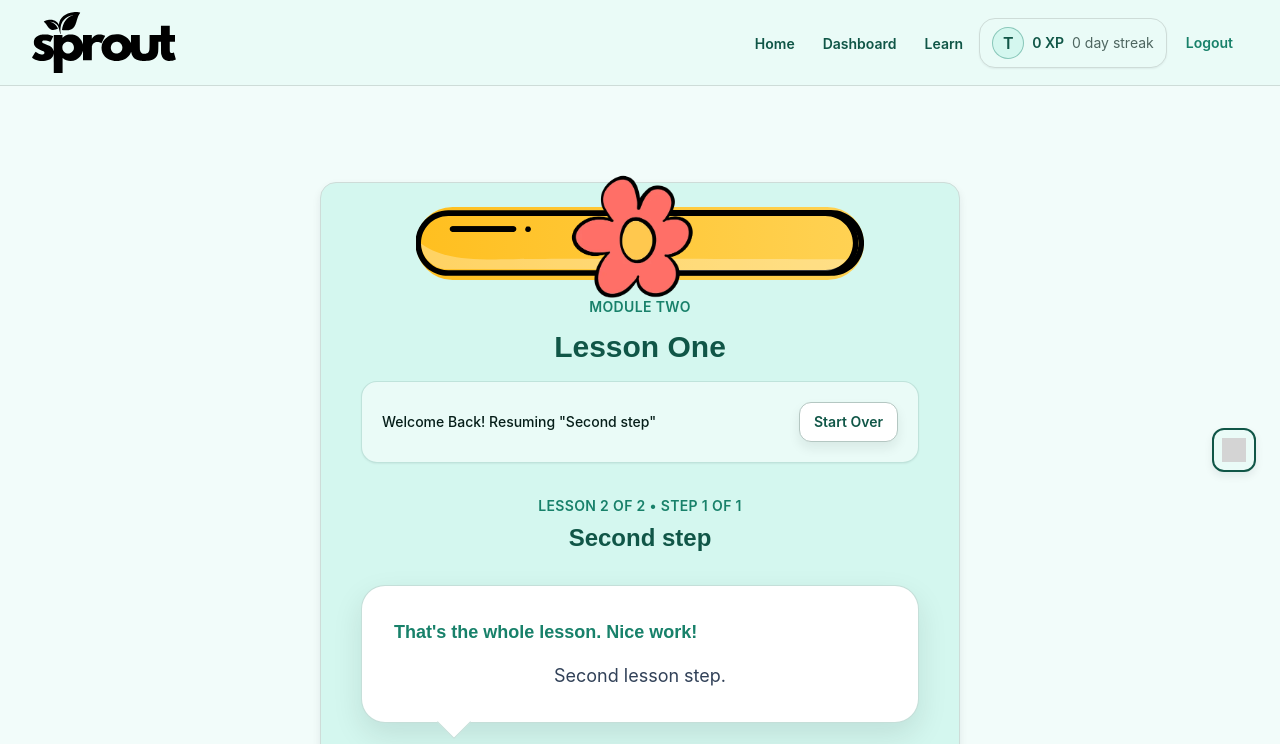
Scenario: LearnPage glossary integration › shows the empty state when the active module has no glossary data
Click the button named "Open glossary and references". click: click(1234, 450)
box: left=1212, top=428, right=1256, bottom=472
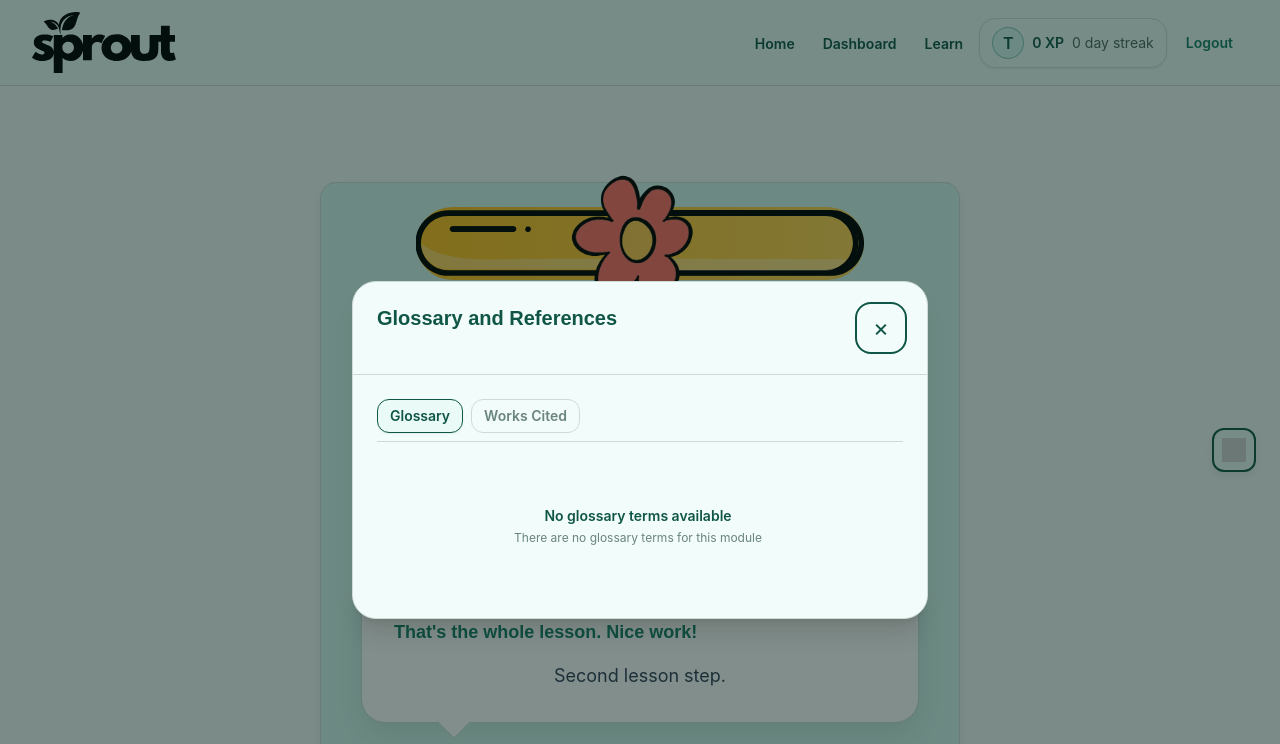
Expected: the text "No glossary terms available" is shown, left=544, top=507, right=732, bottom=524
